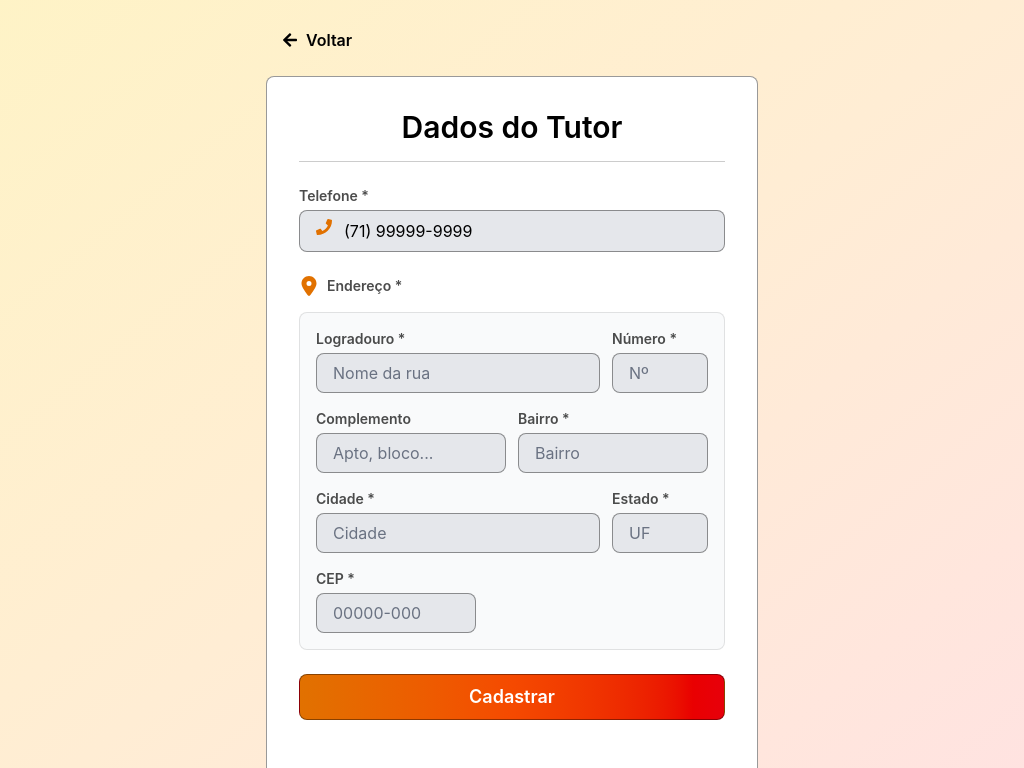
Scenario: shows error when street is empty
Click the button "Cadastrar" at (512, 697), box [299,674,725,720]
(page scrolled)
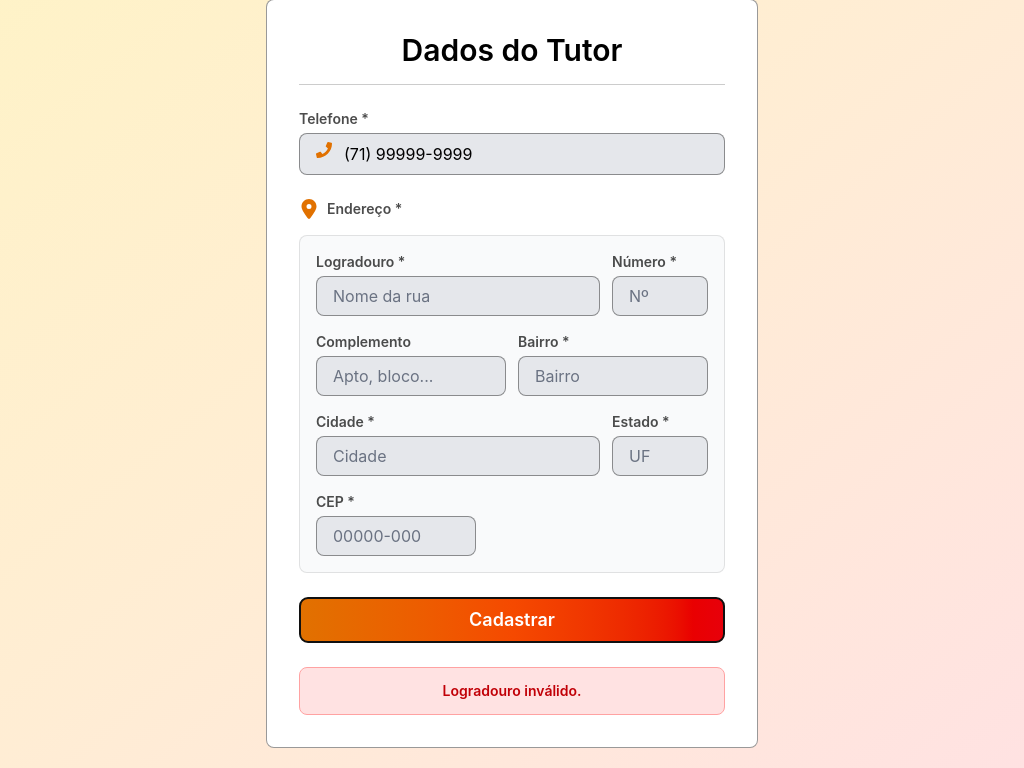
Expected: the text "Logradouro inválido." is shown, [299,667,725,715]
